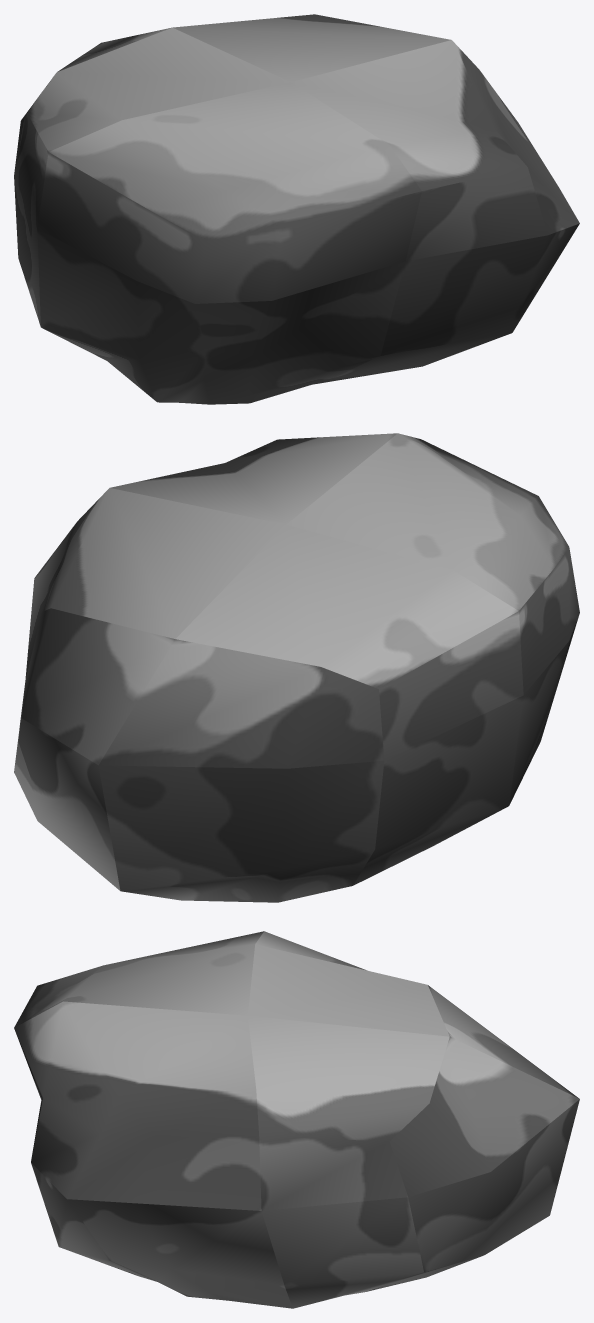
Rendered from rock_02.FBX.
The picture shows the model from 3 angles, top to bottom: view 1: azimuth 30°, elevation 25°; view 2: azimuth 150°, elevation 25°; view 3: azimuth 270°, elevation 25°; orthographic projection. The views are drawn at different scales.
Visible parts, largest first — view 1: rock_02; view 2: rock_02; view 3: rock_02.
Boxes of the visible parts, box(x1,y1,x2,y2) form: rock_02: box(14, 14, 579, 404); rock_02: box(14, 433, 579, 902); rock_02: box(14, 931, 579, 1308).
Bounding box in the file's own units: 38.2 × 23.35 × 43.9.
